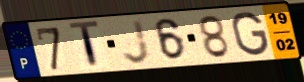6: (153, 18, 188, 63)
7: (34, 26, 62, 72)
8: (197, 14, 231, 59)
G: (230, 10, 271, 57)
J: (121, 18, 153, 66)
T: (67, 19, 102, 71)
